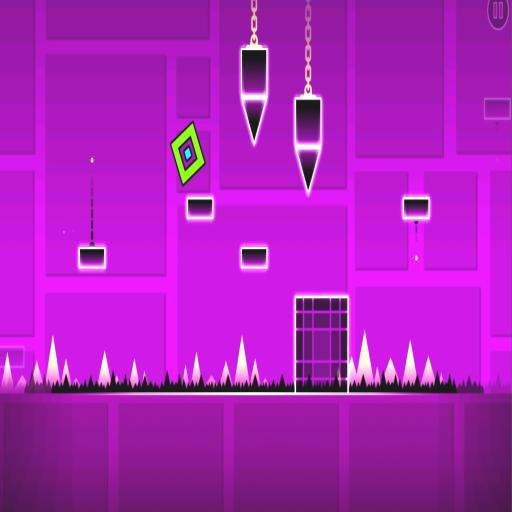block: (292, 290, 350, 397), (290, 88, 328, 154), (236, 42, 272, 103), (236, 239, 272, 274), (399, 192, 435, 227), (184, 190, 216, 225), (76, 244, 110, 272), (479, 95, 512, 120)
player: (170, 121, 205, 185)
spike: (243, 99, 266, 143), (297, 150, 319, 192), (356, 331, 373, 385), (234, 336, 248, 385), (47, 336, 60, 384), (402, 341, 416, 385), (1, 353, 13, 388), (98, 352, 110, 386), (421, 357, 434, 385), (384, 358, 396, 383), (192, 353, 200, 384), (130, 359, 139, 386), (251, 359, 260, 384), (220, 362, 230, 383), (348, 357, 356, 383), (61, 361, 70, 383), (33, 362, 42, 383), (16, 375, 26, 389), (374, 367, 380, 385), (183, 365, 188, 386), (206, 375, 215, 385), (263, 378, 268, 383)
